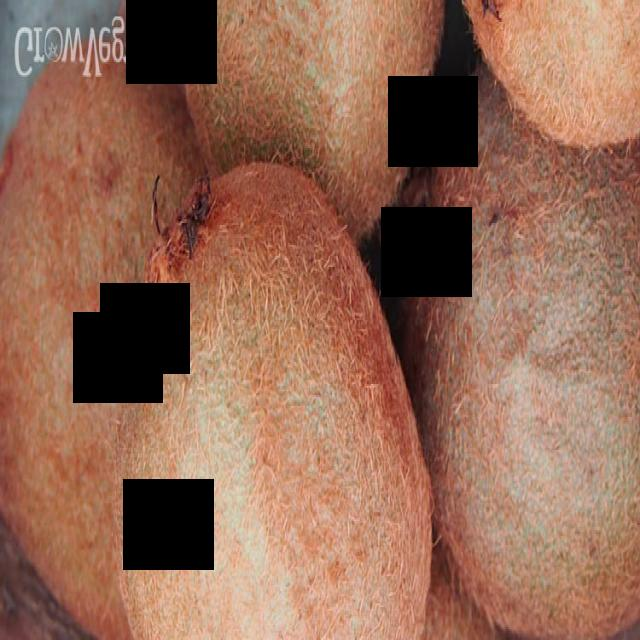kiwi: (109, 166, 430, 640), (2, 56, 182, 640), (439, 133, 640, 631), (171, 3, 452, 204)
